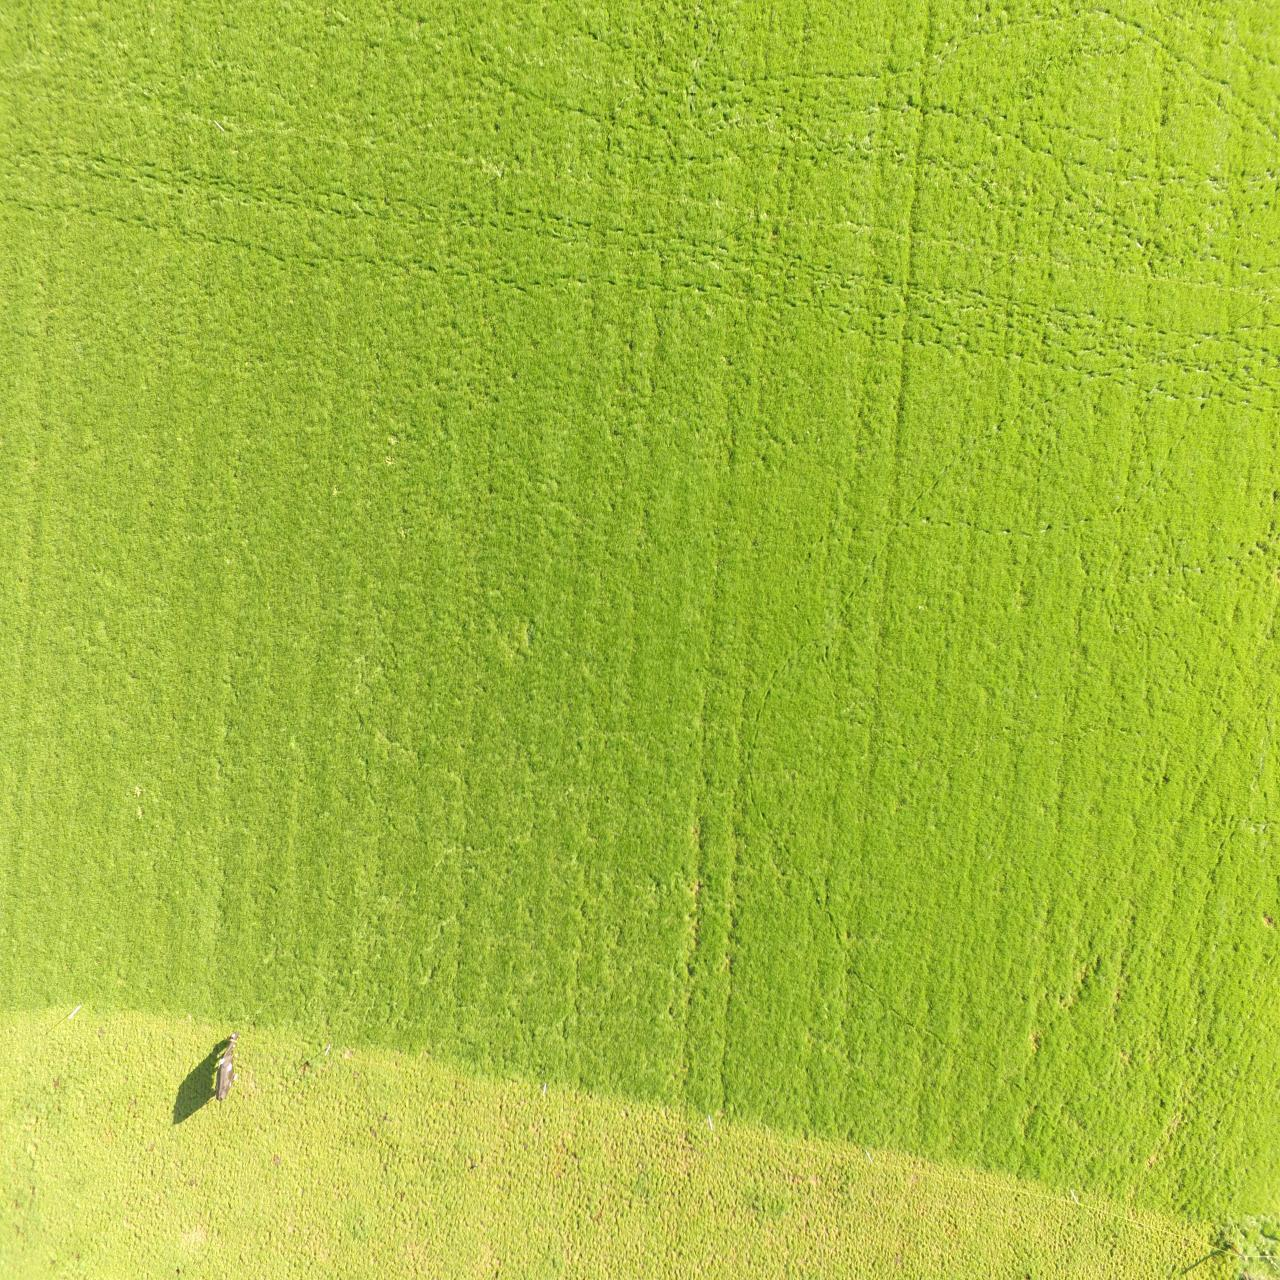cow: (210, 1030, 244, 1102)
